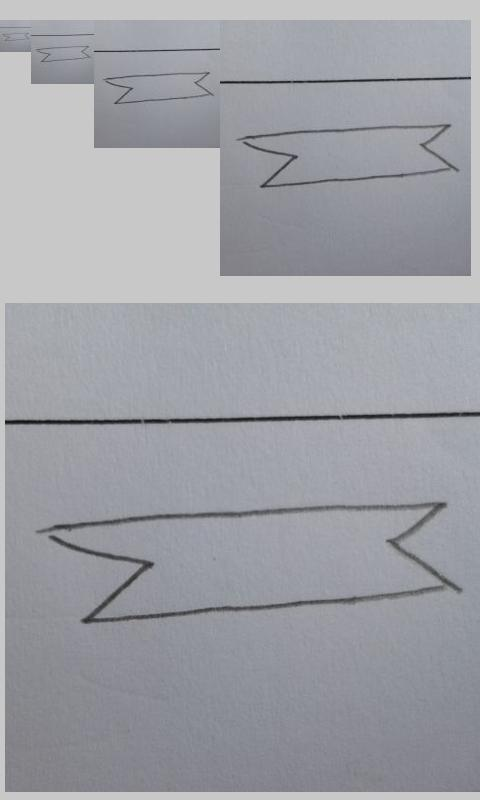edit_text: (41, 498, 450, 626), (240, 120, 454, 189), (105, 72, 211, 104), (35, 45, 91, 63), (2, 32, 29, 41)
